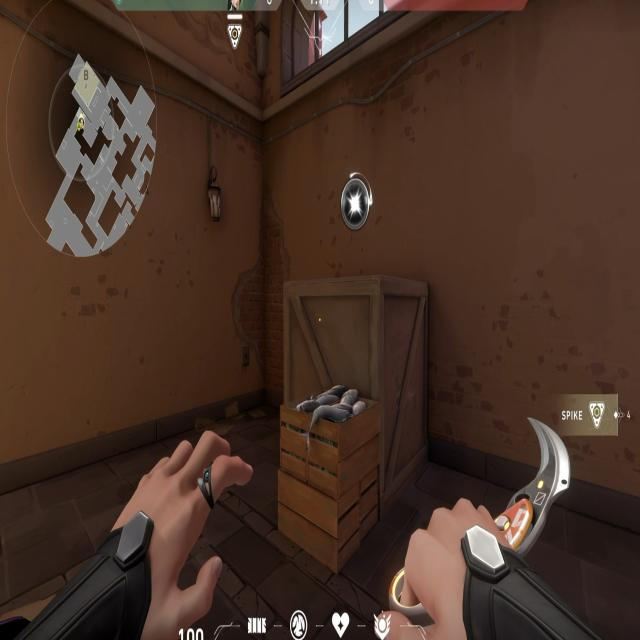B_Main_Wallbang: (274, 150, 381, 460)
